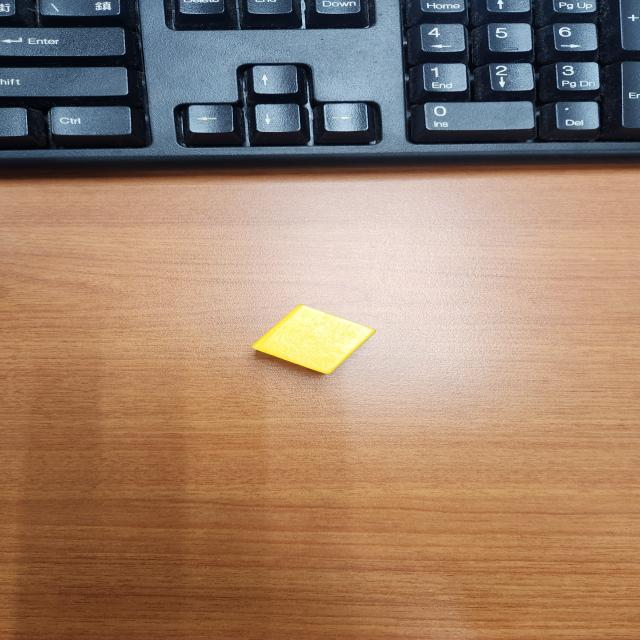yellow: (250, 304, 378, 374)
